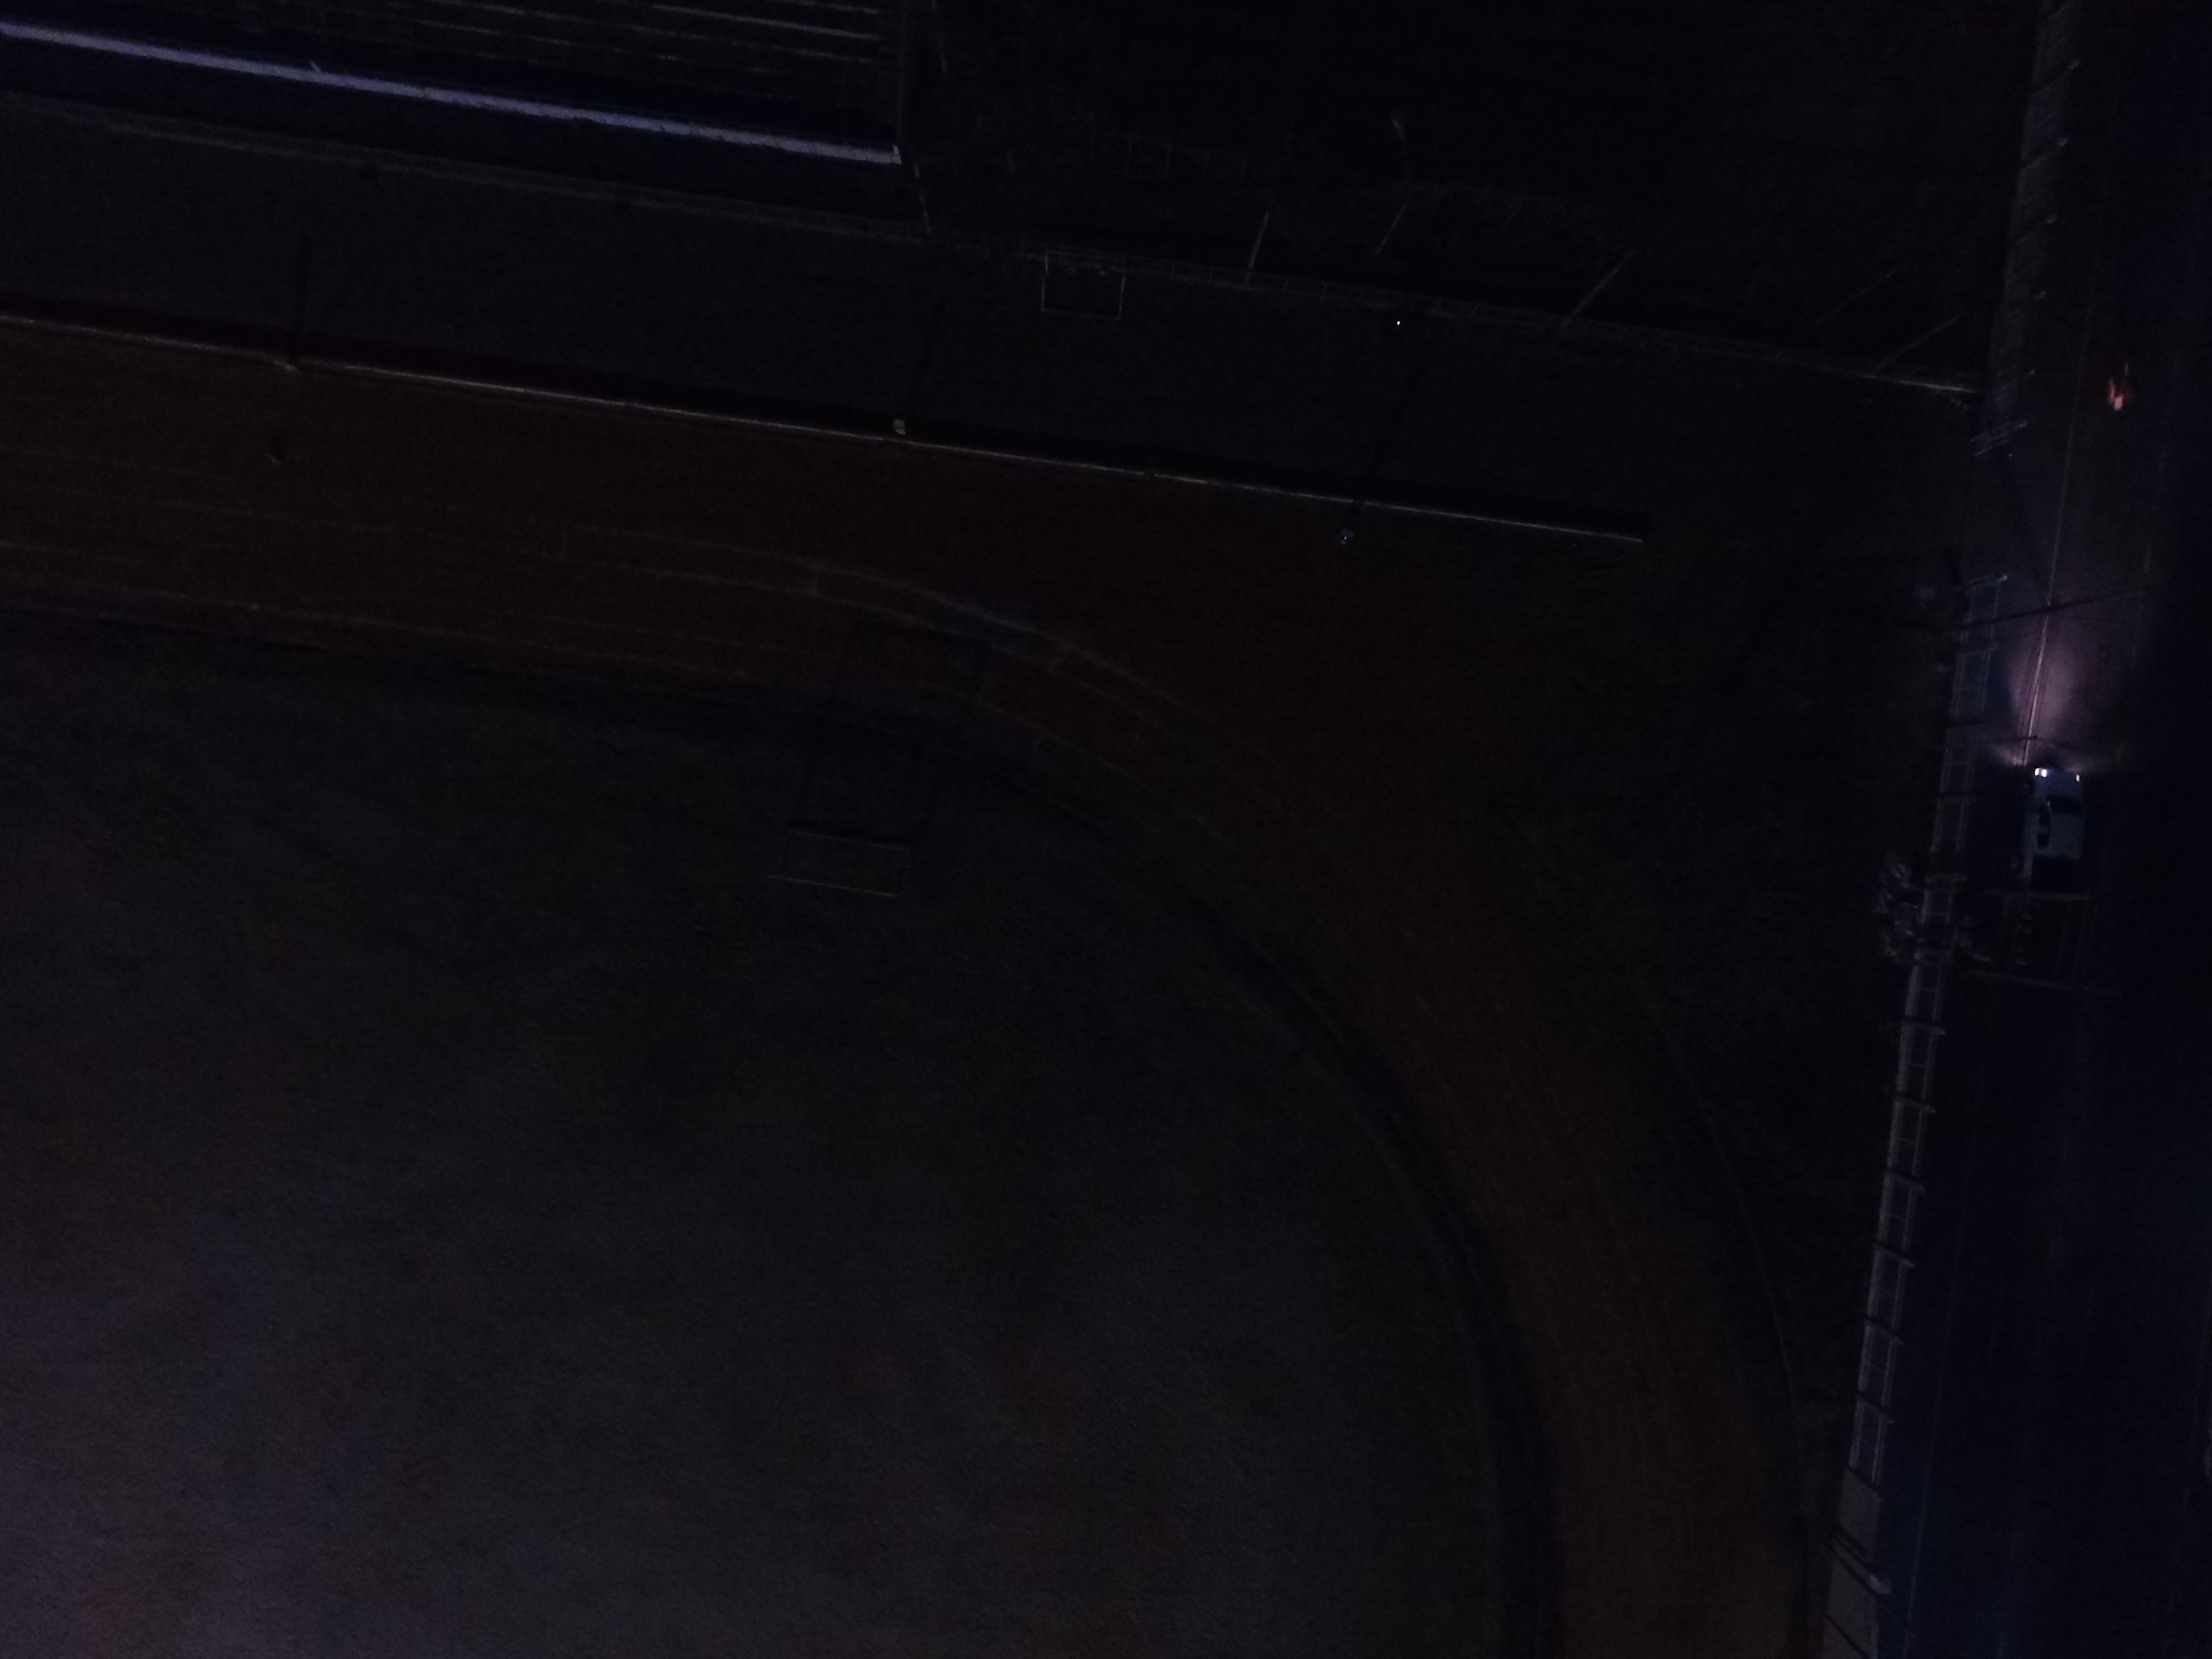car: (1956, 667, 2120, 958)
